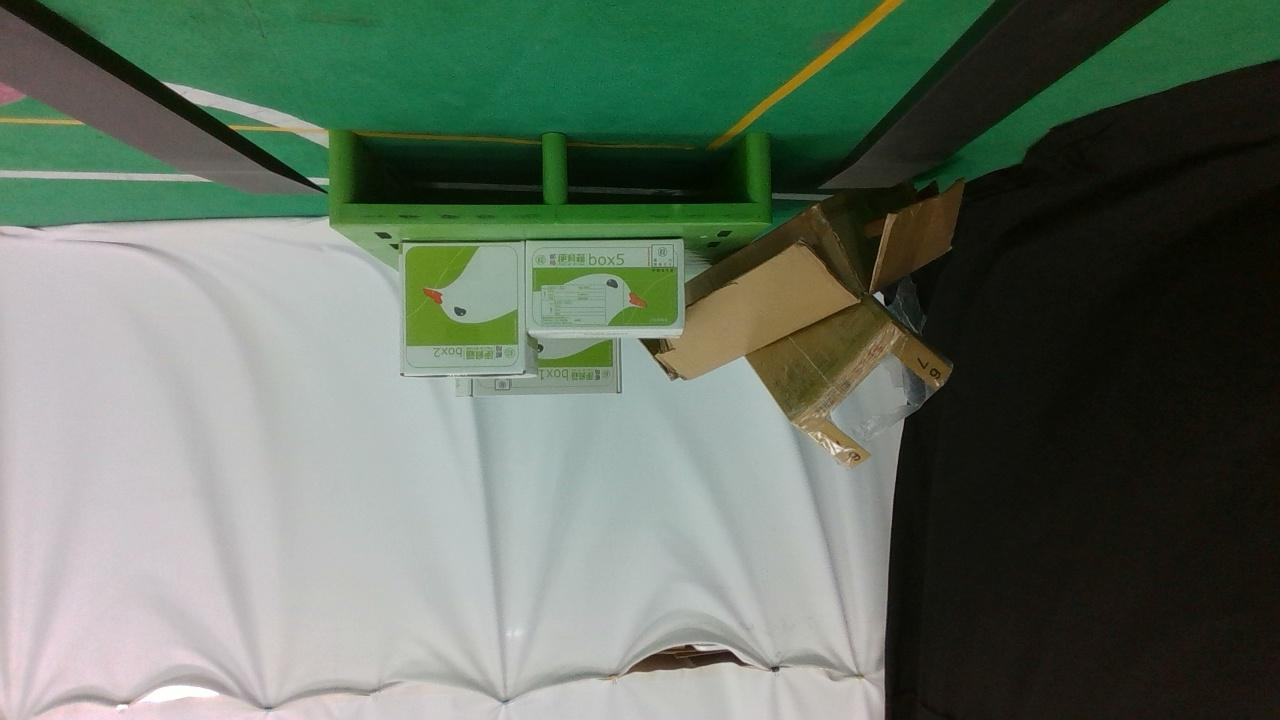Pallet: (328, 129, 772, 227)
